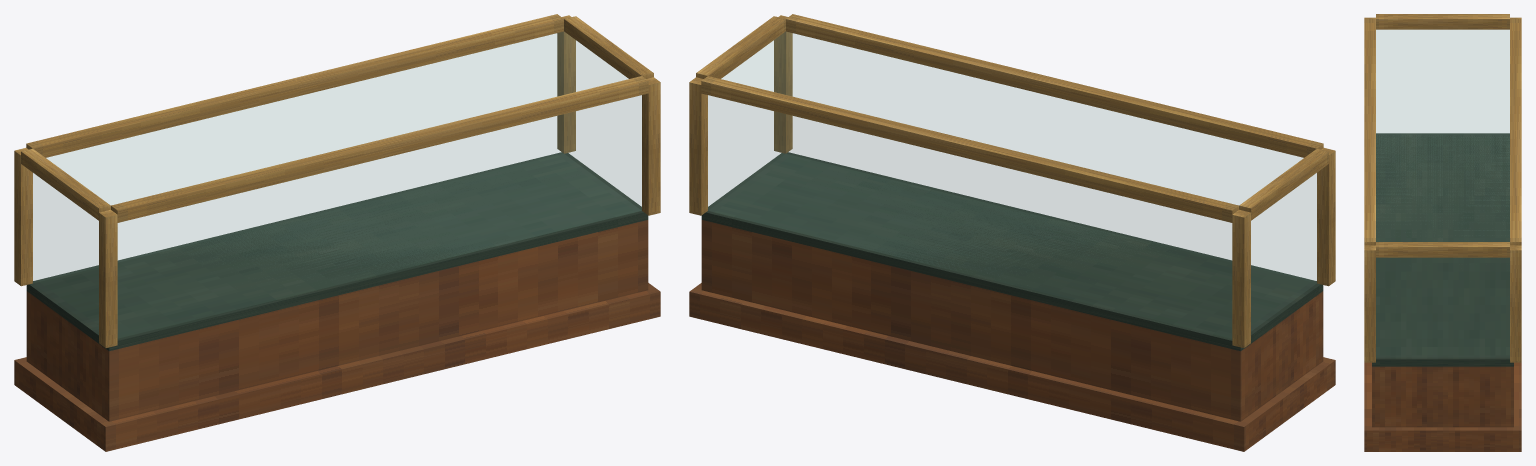
The model's file is display_case.glb.
3 views of the same model, side by side, from view 1: azimuth 30°, elevation 25°; view 2: azimuth 150°, elevation 25°; view 3: azimuth 270°, elevation 25° (orthographic). The views are drawn at different scales.
Visible parts, largest first — view 1: _MeshInstance3D_2, _MeshInstance3D_3; view 2: _MeshInstance3D_2, _MeshInstance3D_3; view 3: _MeshInstance3D_2, _MeshInstance3D_3.
Part boxes in pixels (x1=…): _MeshInstance3D_2: x1=14, y1=14, x2=660, y2=451; _MeshInstance3D_3: x1=33, y1=32, x2=641, y2=282; _MeshInstance3D_2: x1=689, y1=14, x2=1335, y2=451; _MeshInstance3D_3: x1=708, y1=32, x2=1316, y2=285; _MeshInstance3D_2: x1=1364, y1=14, x2=1521, y2=451; _MeshInstance3D_3: x1=1376, y1=30, x2=1509, y2=235.
Bounding box in the file's own units: 2.8 × 1.15 × 0.8.
2 materials, 1 textured.
